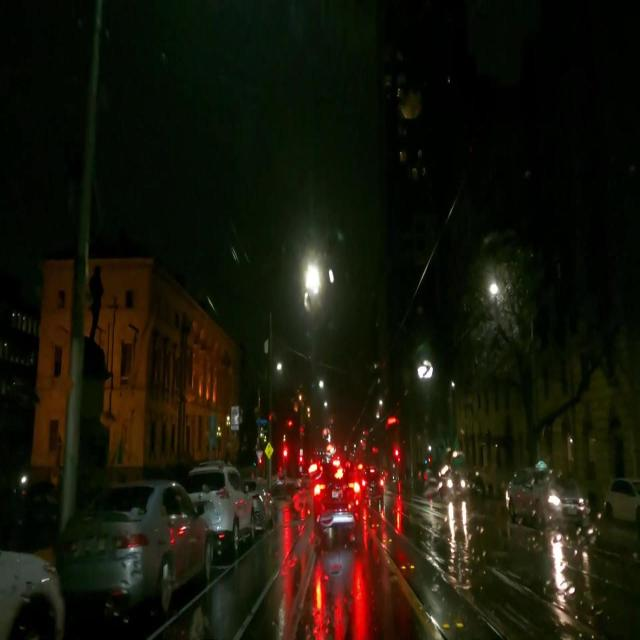Car: (62, 486, 213, 605), (505, 462, 588, 527), (311, 456, 364, 539)
